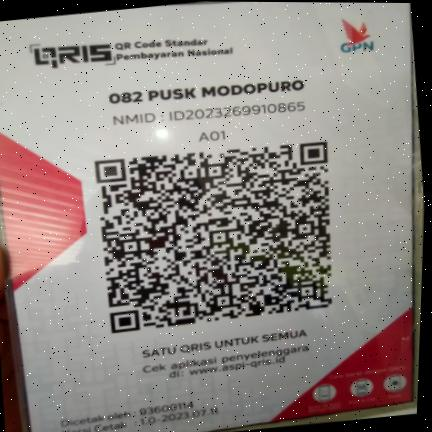Qris-Positioning: (0, 2, 423, 432)
